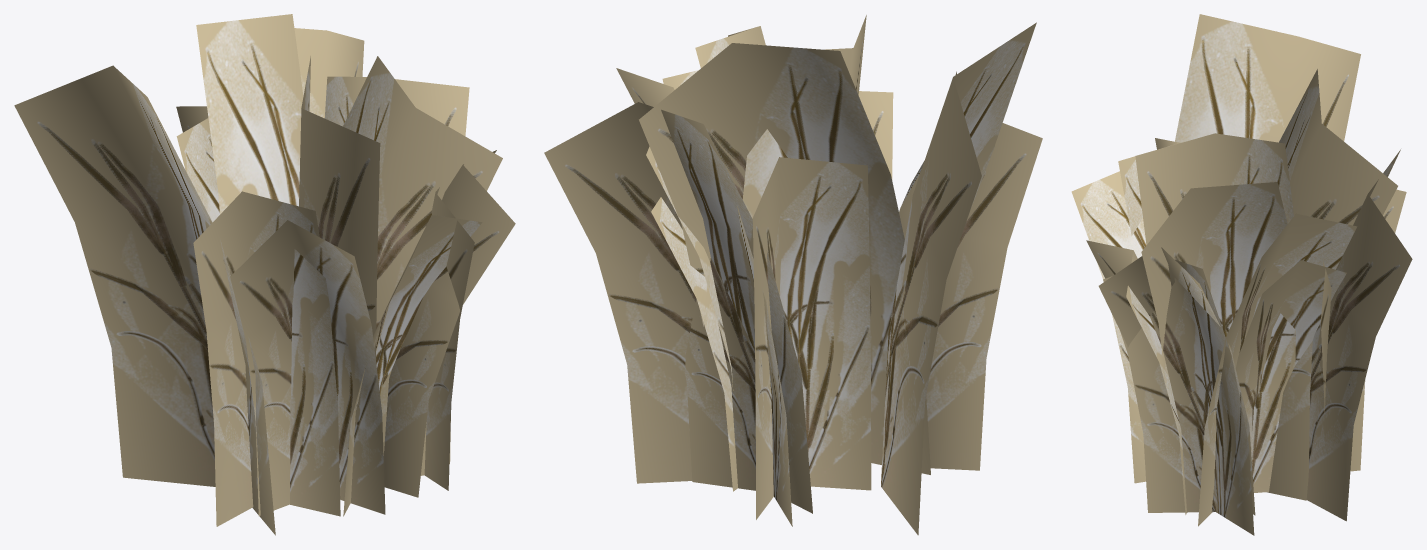
Rendered from marsh-grass-b.dae.
The picture shows the model from 3 angles, left to right: view 1: azimuth 30°, elevation 25°; view 2: azimuth 150°, elevation 25°; view 3: azimuth 270°, elevation 25°; orthographic projection. The views are drawn at different scales.
Parts seen in each view (by area): view 1: Poaceae_b; view 2: Poaceae_b; view 3: Poaceae_b.
Boxes of the visible parts, x1=… form: Poaceae_b: x1=14, y1=14, x2=515, y2=535; Poaceae_b: x1=544, y1=15, x2=1042, y2=535; Poaceae_b: x1=1071, y1=14, x2=1412, y2=535.
Bounding box in the file's own units: 173 × 184 × 147.
